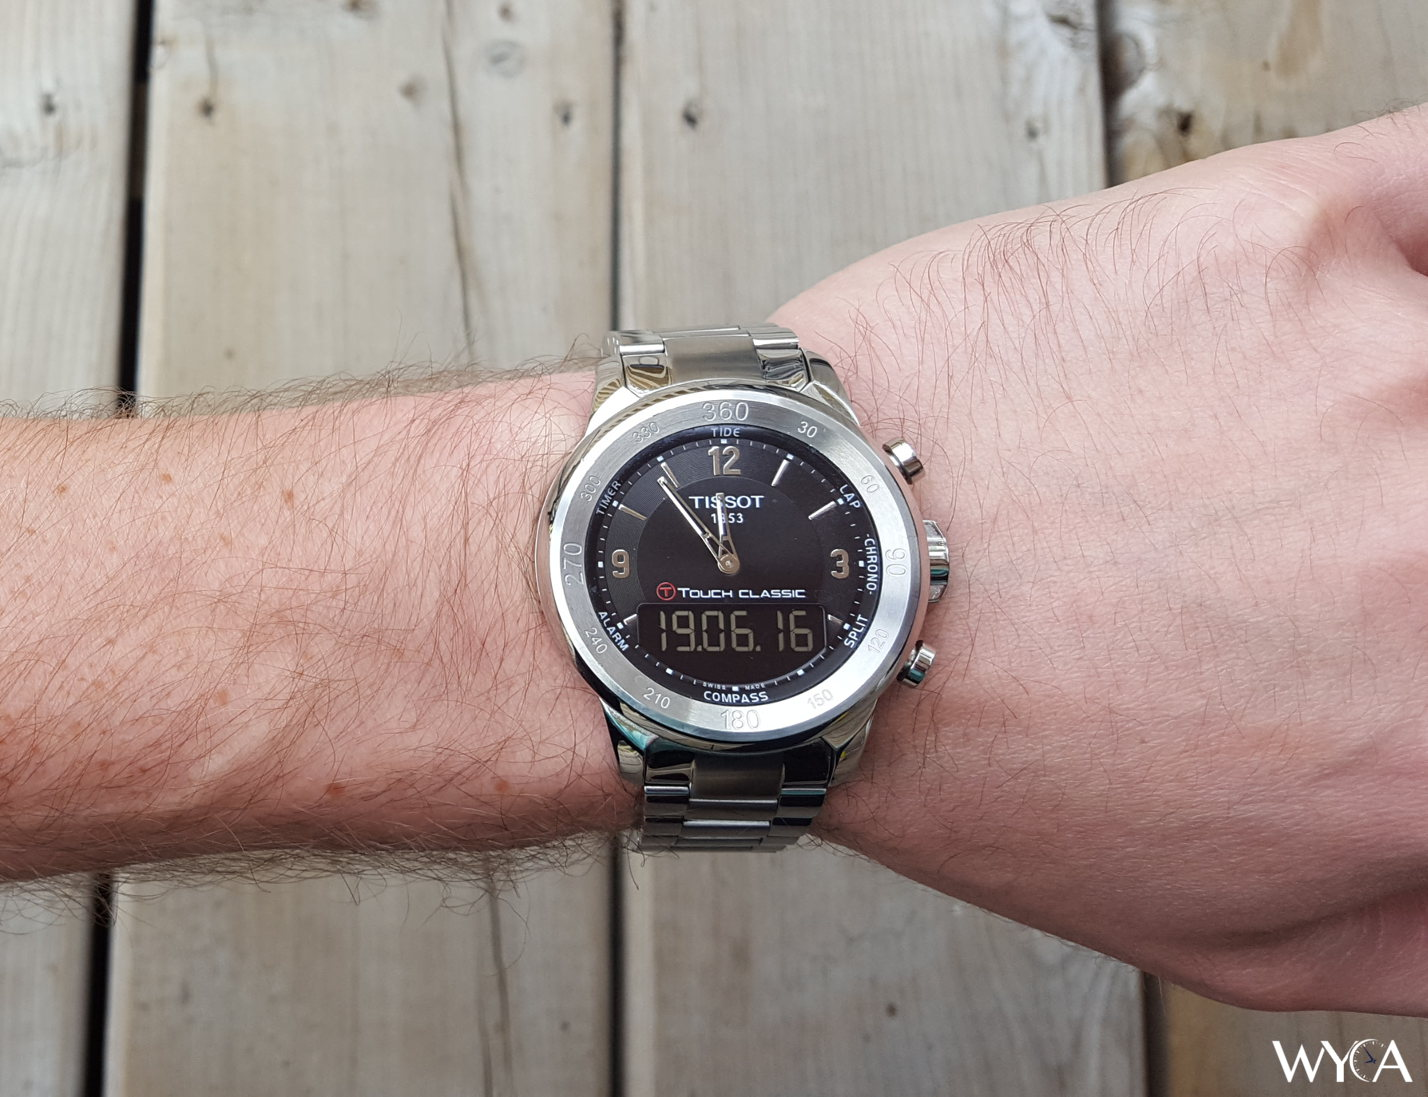clock: (529, 375, 942, 764)
